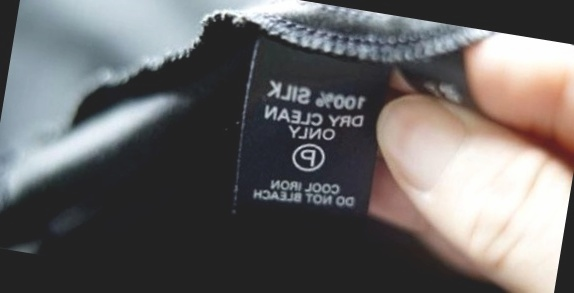dry_clean_any_solvent_except_trichloroethylene: (288, 139, 327, 174)
